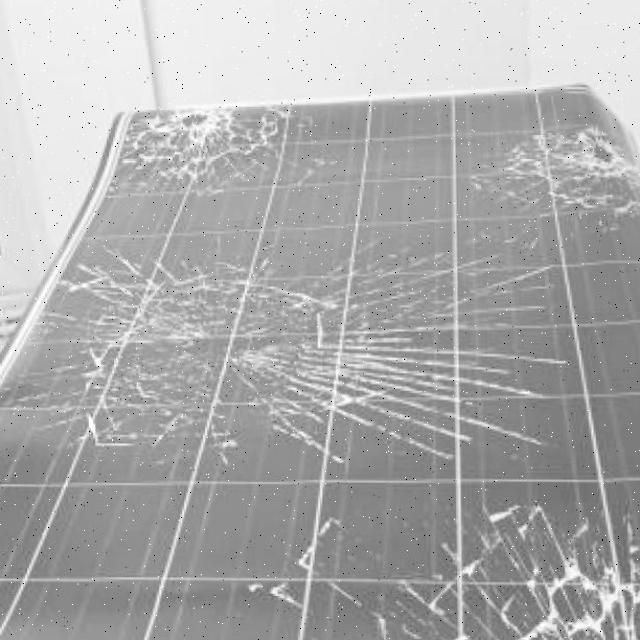Anomaly Solar Panel: (0, 83, 640, 640)
Structural Damage: (0, 214, 580, 484), (245, 496, 640, 640), (106, 101, 343, 197), (464, 115, 640, 231)
